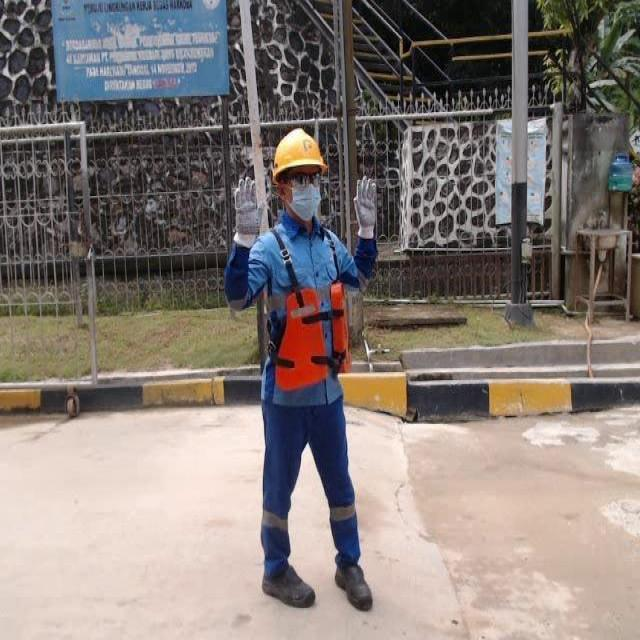boots: (262, 564, 314, 608), (335, 563, 373, 611)
gloves: (232, 175, 260, 248), (352, 176, 376, 239), (265, 309, 287, 351)
hard-hat: (271, 128, 329, 184)
person: (224, 126, 379, 610)
vest: (246, 225, 366, 371)
